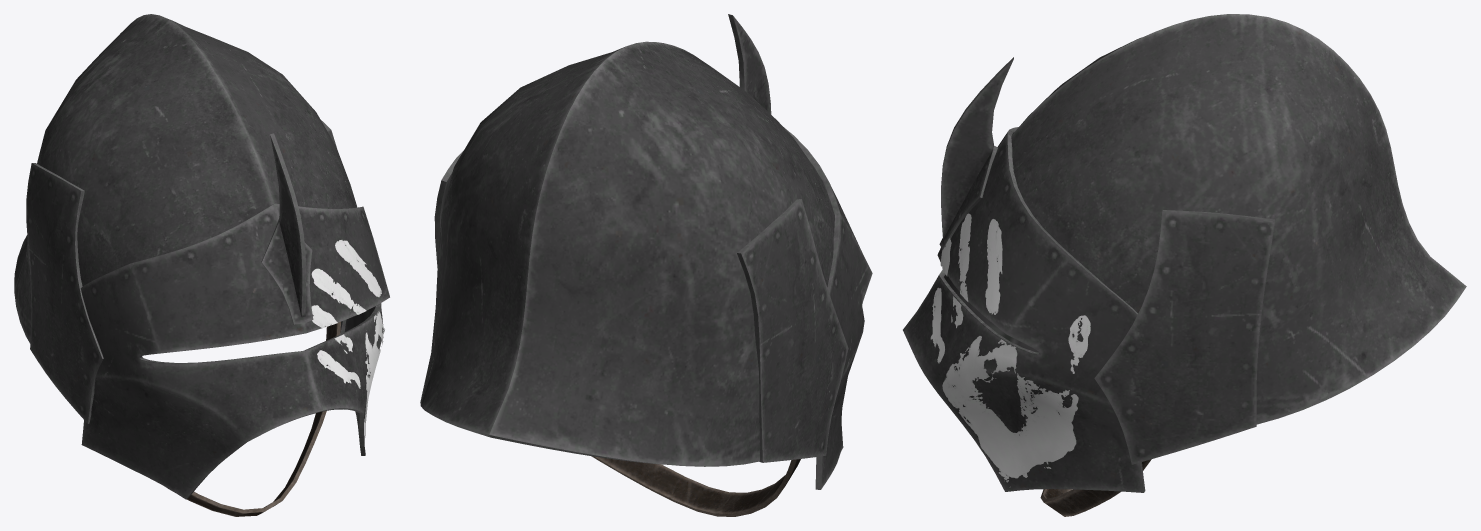
File: sk_uruk_hai_helmet_spear_med_a1.fbx
3 renders of one model, left to right at view 1: azimuth 30°, elevation 25°; view 2: azimuth 150°, elevation 25°; view 3: azimuth 270°, elevation 25°, orthographic. The views are drawn at different scales.
Visible parts, largest first — view 1: sk_uruk_hai_helmet_spear_med_a1.2, sk_uruk_hai_helmet_spear_med_a1.0, sk_uruk_hai_helmet_spear_med_a1.1; view 2: sk_uruk_hai_helmet_spear_med_a1.2, sk_uruk_hai_helmet_spear_med_a1.1; view 3: sk_uruk_hai_helmet_spear_med_a1.2, sk_uruk_hai_helmet_spear_med_a1.0, sk_uruk_hai_helmet_spear_med_a1.1.
Boxes of the visible parts, left/top/right/bottom form: sk_uruk_hai_helmet_spear_med_a1.2: left=14, top=14, right=389, bottom=499; sk_uruk_hai_helmet_spear_med_a1.0: left=311, top=240, right=384, bottom=437; sk_uruk_hai_helmet_spear_med_a1.1: left=168, top=321, right=340, bottom=516; sk_uruk_hai_helmet_spear_med_a1.2: left=420, top=14, right=872, bottom=489; sk_uruk_hai_helmet_spear_med_a1.1: left=591, top=456, right=800, bottom=516; sk_uruk_hai_helmet_spear_med_a1.2: left=903, top=14, right=1466, bottom=492; sk_uruk_hai_helmet_spear_med_a1.0: left=930, top=213, right=1090, bottom=487; sk_uruk_hai_helmet_spear_med_a1.1: left=1040, top=459, right=1151, bottom=516.
Size of the model in its own units: 0.2102 by 0.3242 by 0.3125.
3 materials, 3 textured.
